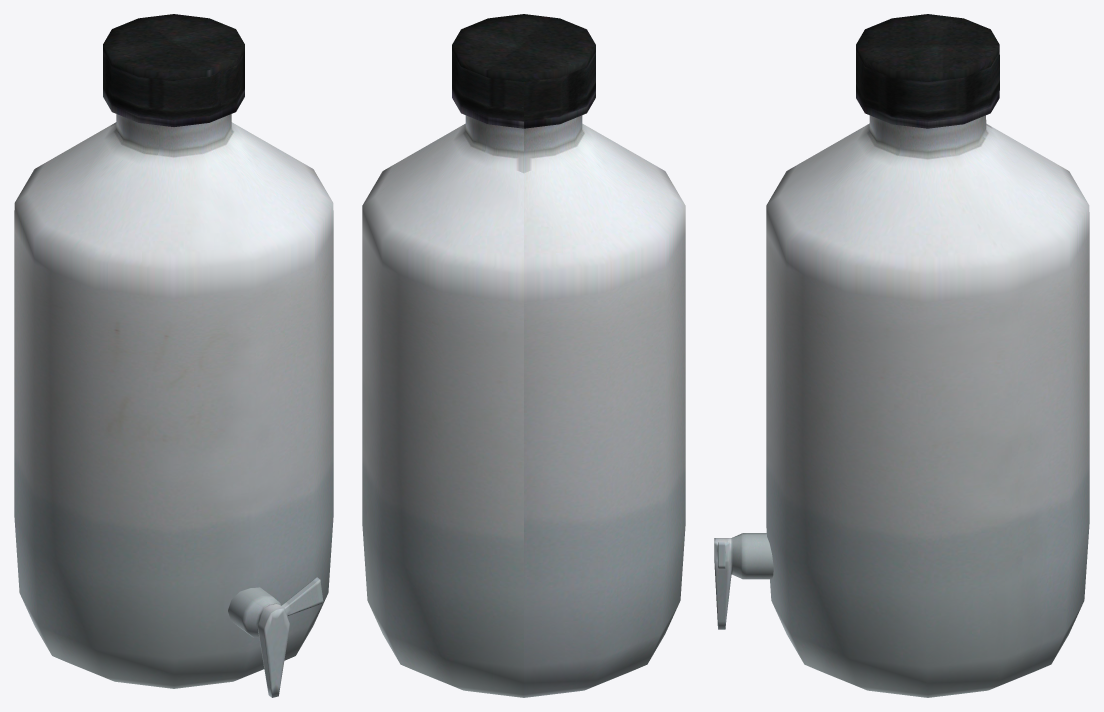
File: DistilledWater.fbx
3 renders of one model, left to right at view 1: azimuth 30°, elevation 25°; view 2: azimuth 150°, elevation 25°; view 3: azimuth 270°, elevation 25°, orthographic.
Visible parts, largest first — view 1: Bottle, Tap; view 2: Bottle; view 3: Bottle, Tap.
Part boxes in pixels (left/top/right/bottom): Bottle: left=14, top=14, right=333, bottom=688; Tap: left=228, top=577, right=323, bottom=697; Bottle: left=362, top=14, right=685, bottom=697; Bottle: left=766, top=14, right=1089, bottom=697; Tap: left=714, top=533, right=773, bottom=629.
Bounding box in the file's own units: 0.1969 × 0.4002 × 0.226.
1 material, 1 textured.
